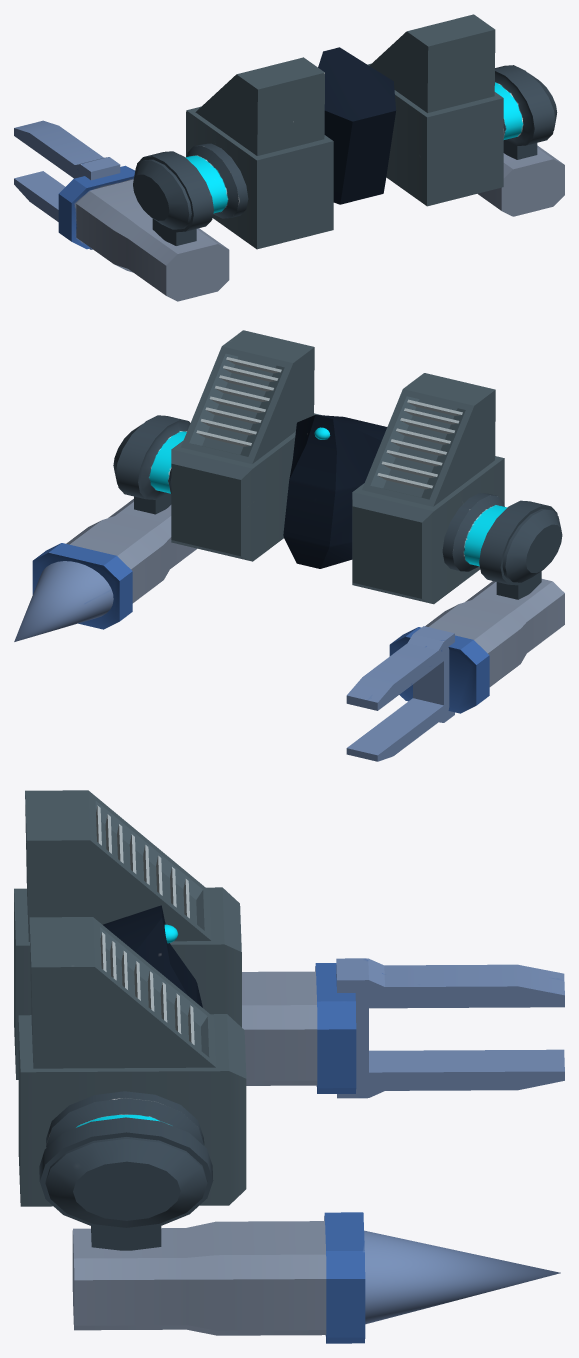
Rendered from boss.obj.
3 renders of one model, top to bottom at view 1: azimuth 30°, elevation 25°; view 2: azimuth 150°, elevation 25°; view 3: azimuth 270°, elevation 25°, orthographic. The views are drawn at different scales.
Parts seen in each view (by area): view 1: Куб.004_Куб.006; view 2: Куб.004_Куб.006; view 3: Куб.004_Куб.006.
Part boxes in pixels (bbox=[...]): Куб.004_Куб.006: bbox=[14, 14, 564, 301]; Куб.004_Куб.006: bbox=[14, 330, 564, 761]; Куб.004_Куб.006: bbox=[14, 790, 564, 1343].
Bounding box in the file's own units: 4 × 2 × 3.
